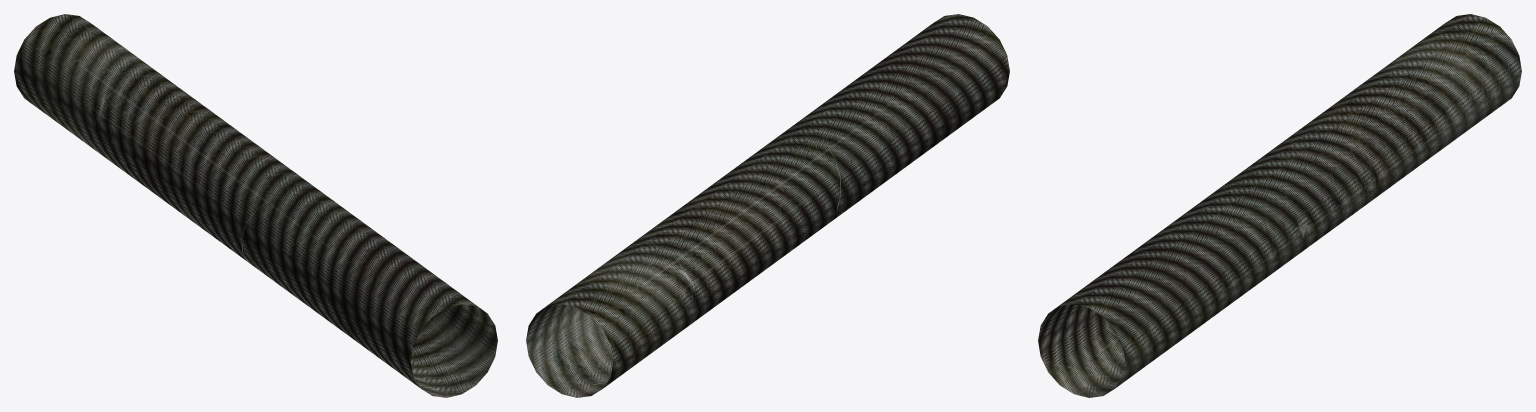
File: pipe_01.FBX
3 views of the same model, side by side, from view 1: azimuth 30°, elevation 25°; view 2: azimuth 150°, elevation 25°; view 3: azimuth 330°, elevation 25° (orthographic).
Visible parts, largest first — view 1: pipe_01; view 2: pipe_01; view 3: pipe_01.
Boxes of the visible parts, x1,y1,x2,y2 form: pipe_01: (14, 14, 497, 397); pipe_01: (526, 14, 1009, 397); pipe_01: (1038, 14, 1521, 397).
Bounding box in the file's own units: 12.71 × 12.51 × 100.
